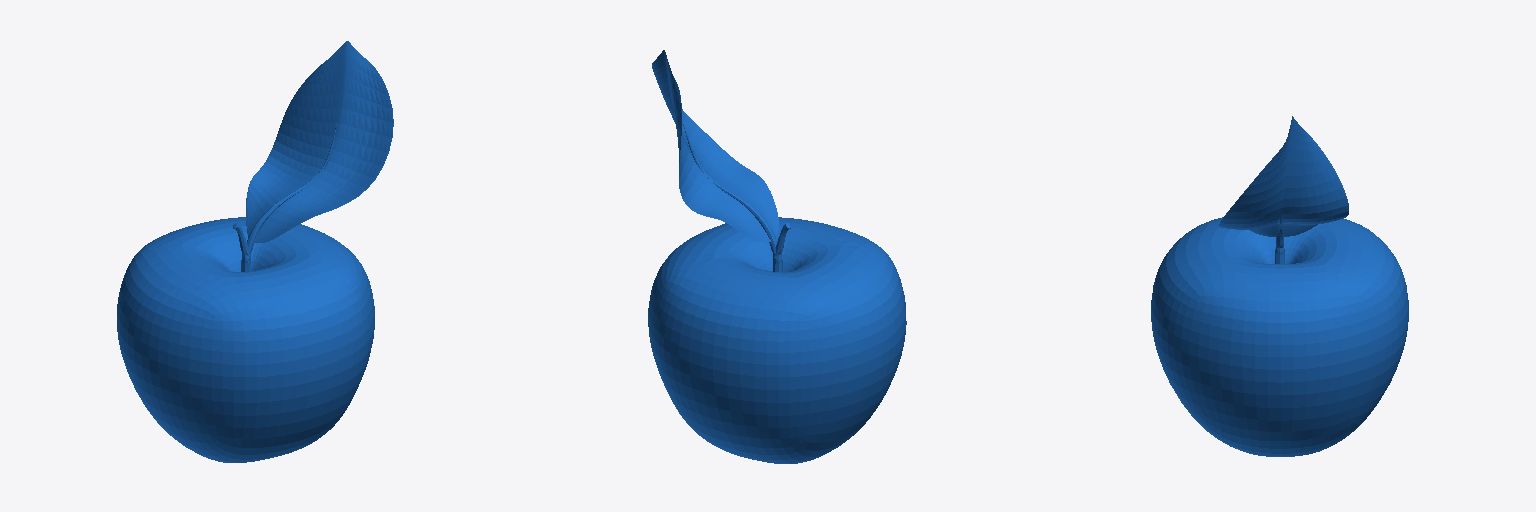
Rendered from apple2.obj.
3 views of the same model, side by side, from view 1: azimuth 30°, elevation 25°; view 2: azimuth 150°, elevation 25°; view 3: azimuth 270°, elevation 25° (orthographic).
Parts seen in each view (by area): view 1: Apple_apple.001; view 2: Apple_apple.001; view 3: Apple_apple.001.
Boxes of the visible parts, <box> form: Apple_apple.001: <box>117,41,393,462</box>; Apple_apple.001: <box>648,50,906,463</box>; Apple_apple.001: <box>1151,116,1408,456</box>.
Bounding box in the file's own units: 16.14 × 23.67 × 14.8.